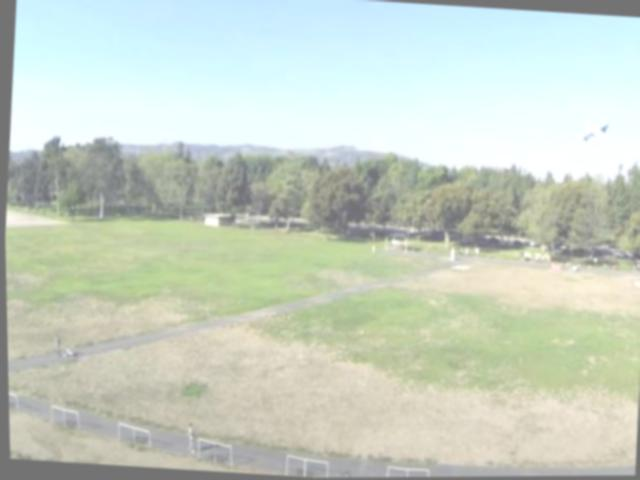iha: (581, 117, 610, 143)
